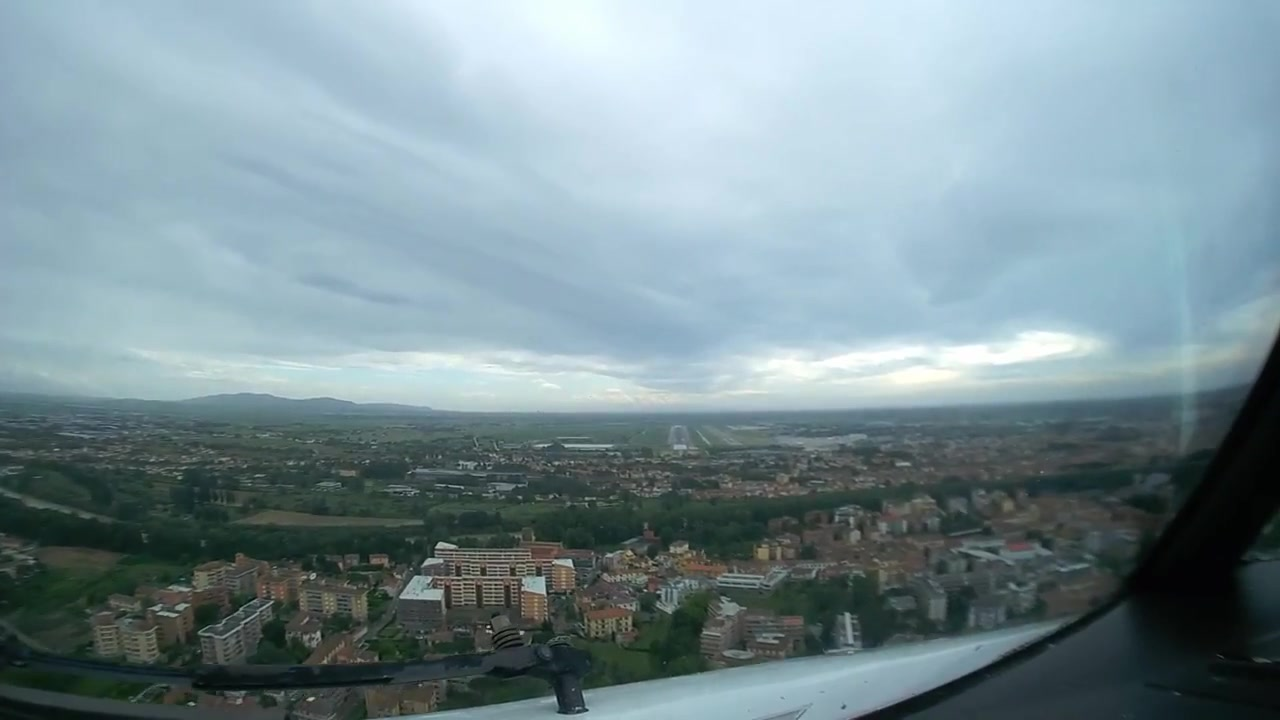runway: (666, 424, 693, 447)
